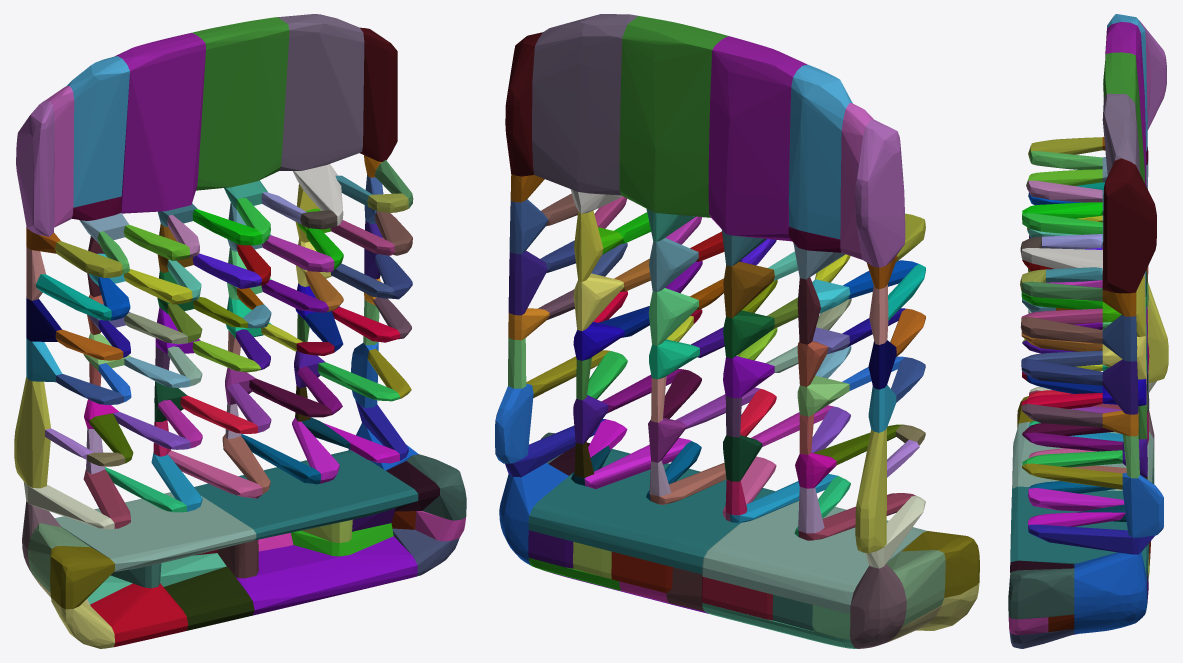
Rendered from coacd_merged.obj.
The picture shows the model from 3 angles, left to right: view 1: azimuth 30°, elevation 25°; view 2: azimuth 150°, elevation 25°; view 3: azimuth 270°, elevation 25°; orthographic projection. The views are drawn at different scales.
Parts seen in each view (by area): view 1: geometry_0, geometry_1, geometry_44, geometry_37, geometry_70, geometry_42, geometry_30, geometry_45, geometry_72, geometry_104, geometry_88, geometry_10 (+76 smaller); view 2: geometry_0, geometry_1, geometry_44, geometry_37, geometry_42, geometry_30, geometry_45, geometry_24, geometry_72, geometry_10, geometry_5, geometry_120 (+69 smaller); view 3: geometry_72, geometry_5, geometry_37, geometry_84, geometry_44, geometry_9, geometry_6, geometry_0, geometry_1, geometry_42, geometry_52, geometry_111 (+50 smaller).
Boxes of the visible parts, x1,y1,x2,y2 form: geometry_0: [191, 17, 289, 190]; geometry_1: [114, 33, 205, 213]; geometry_44: [278, 14, 364, 170]; geometry_37: [194, 450, 418, 540]; geometry_70: [236, 536, 417, 615]; geometry_42: [55, 492, 256, 571]; geometry_30: [67, 56, 129, 207]; geometry_45: [16, 100, 54, 236]; geometry_72: [360, 27, 397, 161]; geometry_104: [90, 583, 188, 646]; geometry_88: [164, 566, 254, 630]; geometry_10: [14, 377, 50, 488]; geometry_0: [619, 16, 728, 217]; geometry_1: [708, 36, 807, 241]; geometry_44: [532, 14, 638, 195]; geometry_37: [528, 449, 774, 574]; geometry_42: [702, 501, 926, 613]; geometry_30: [788, 64, 852, 239]; geometry_45: [855, 119, 905, 267]; geometry_24: [850, 564, 906, 648]; geometry_72: [505, 32, 542, 176]; geometry_10: [855, 428, 886, 553]; geometry_5: [499, 463, 568, 565]; geometry_120: [886, 550, 945, 626]; geometry_72: [1102, 158, 1156, 293]; geometry_5: [1074, 552, 1147, 634]; geometry_37: [1010, 486, 1149, 580]; geometry_84: [1008, 568, 1074, 619]; geometry_44: [1102, 93, 1140, 175]; geometry_9: [1028, 524, 1155, 554]; geometry_6: [1122, 473, 1163, 537]; geometry_0: [1103, 52, 1144, 183]; geometry_1: [1105, 22, 1146, 186]; geometry_42: [1012, 422, 1153, 490]; geometry_52: [1028, 488, 1124, 511]; geometry_111: [1102, 359, 1138, 414].
Bounding box in the file's own units: 0.3451 × 0.4479 × 0.1259.
